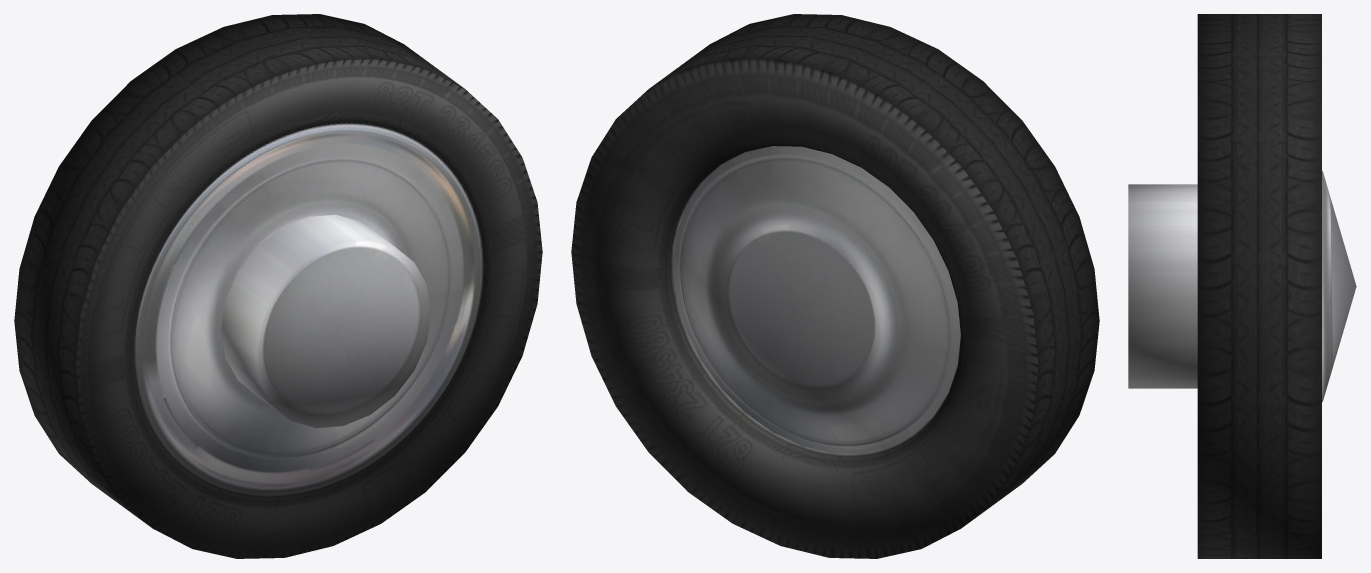
Rendered from leftWheel.obj.
3 views of the same model, side by side, from view 1: azimuth 30°, elevation 25°; view 2: azimuth 150°, elevation 25°; view 3: azimuth 270°, elevation 25° (orthographic).
Parts seen in each view (by area): view 1: leftWheel; view 2: leftWheel; view 3: leftWheel.
Part boxes in pixels (bbox=[...]): leftWheel: bbox=[14, 14, 542, 558]; leftWheel: bbox=[571, 14, 1099, 558]; leftWheel: bbox=[1128, 14, 1356, 558].
Size of the model in its own units: 0.086 by 0.0855 by 0.0359.
2 materials, 2 textured.
